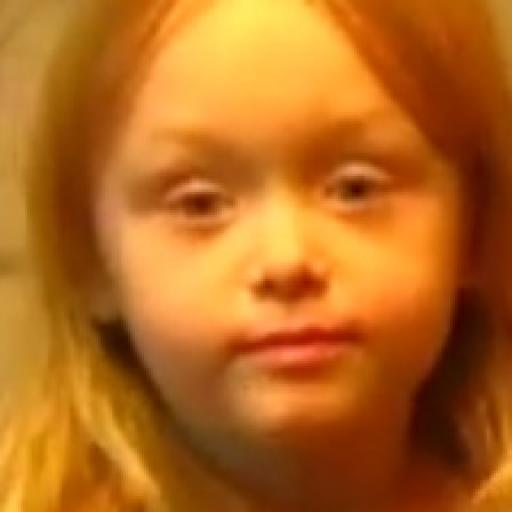Autism: (53, 9, 512, 512)
